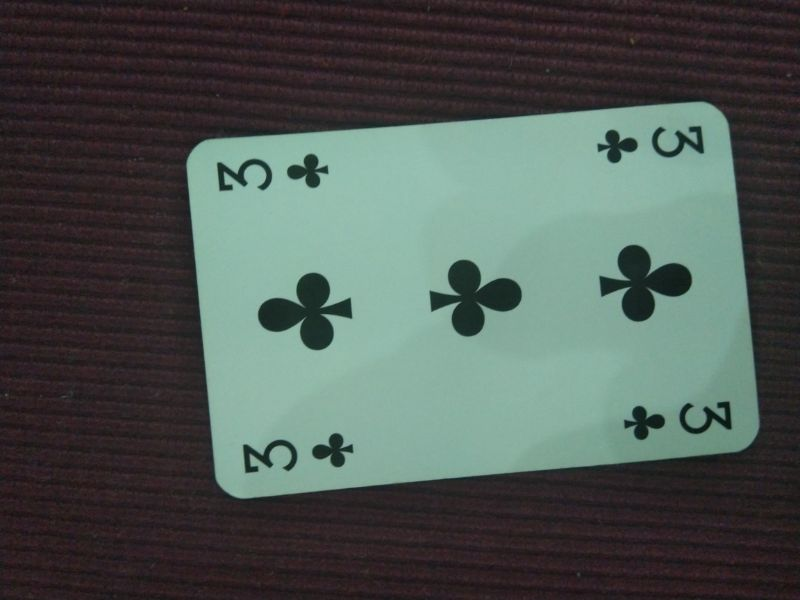3c: (210, 150, 333, 197), (619, 397, 738, 444), (238, 429, 359, 475), (594, 119, 708, 166)
